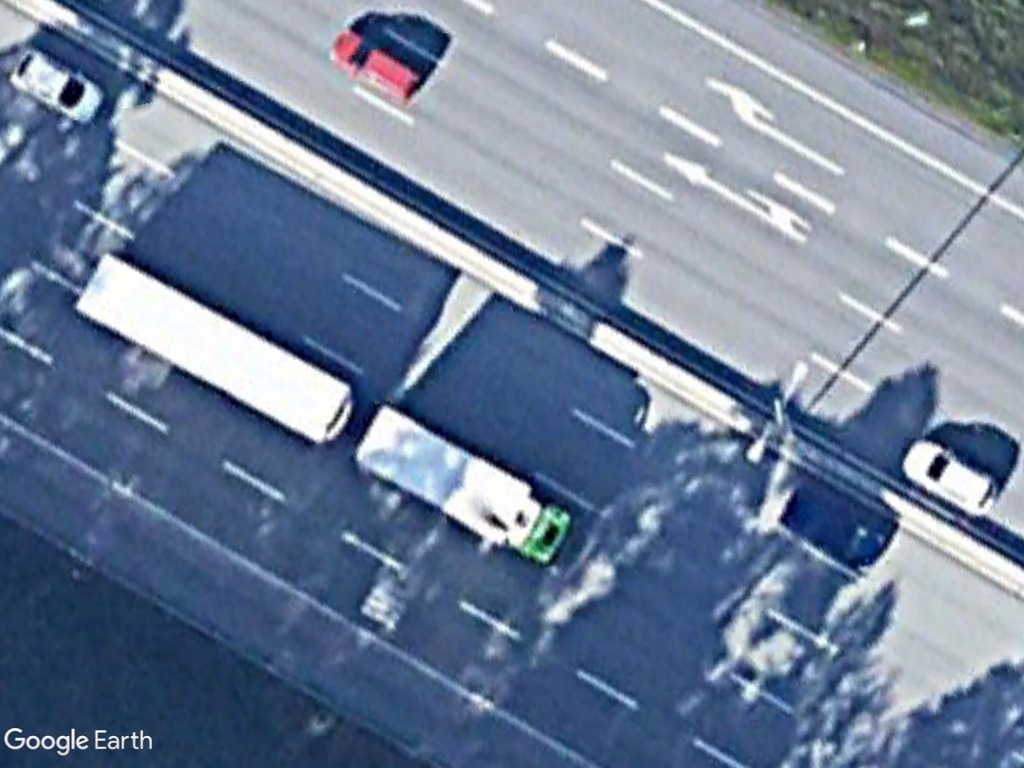car: (894, 432, 1008, 524), (322, 24, 427, 107), (7, 44, 106, 126)
longvehicle: (65, 249, 361, 459)
truck: (348, 392, 585, 577)
